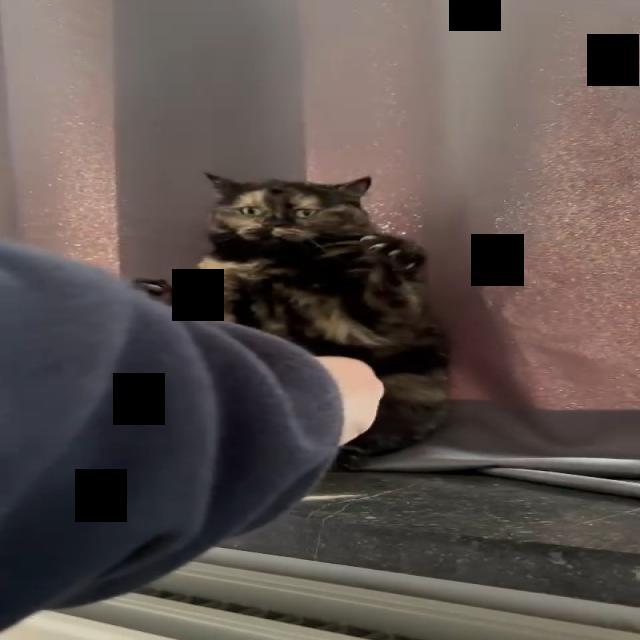authorized: (135, 171, 452, 467)
